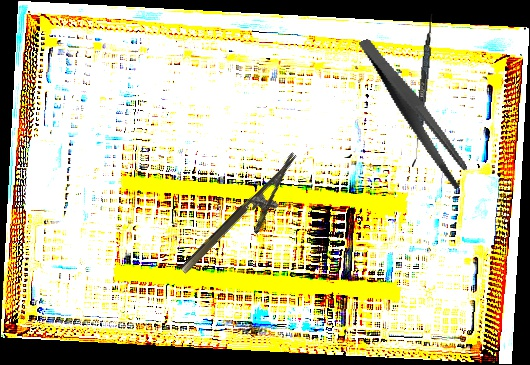Dressing Forceps: (358, 22, 473, 203)
Needle Holder: (178, 151, 316, 290)
Spatula Surgical: (411, 13, 435, 168)
